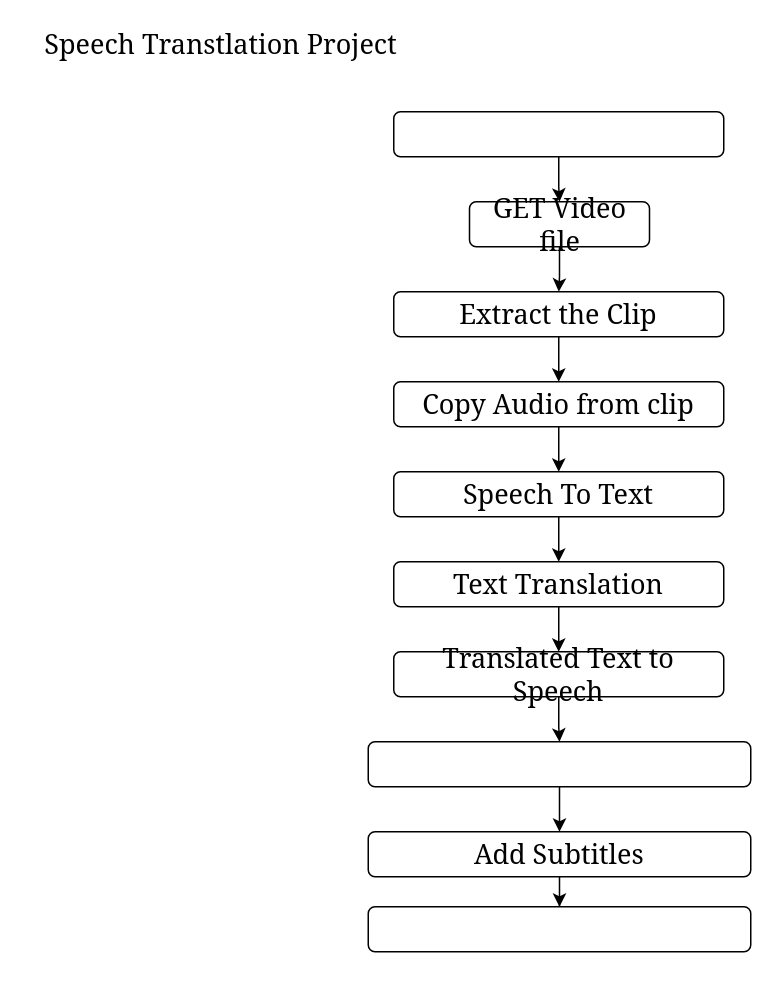
Image size: 777x987. Some labels were removed from this diagram. The centre of each missing label's shape, as x and y in pixels:
"Add Trnaslated Audio to Video" goes at (x=559, y=763).
"Imports and Definitions" goes at (x=558, y=133).
"Output will be posted as the next Episode" goes at (x=559, y=928).
